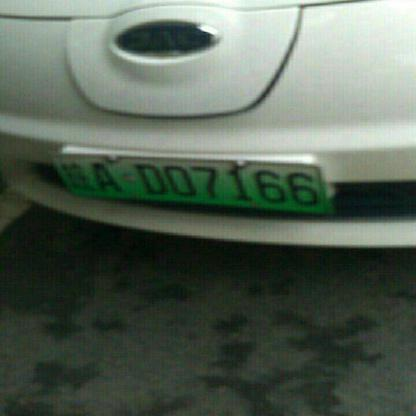lp: (46, 153, 69, 212)
